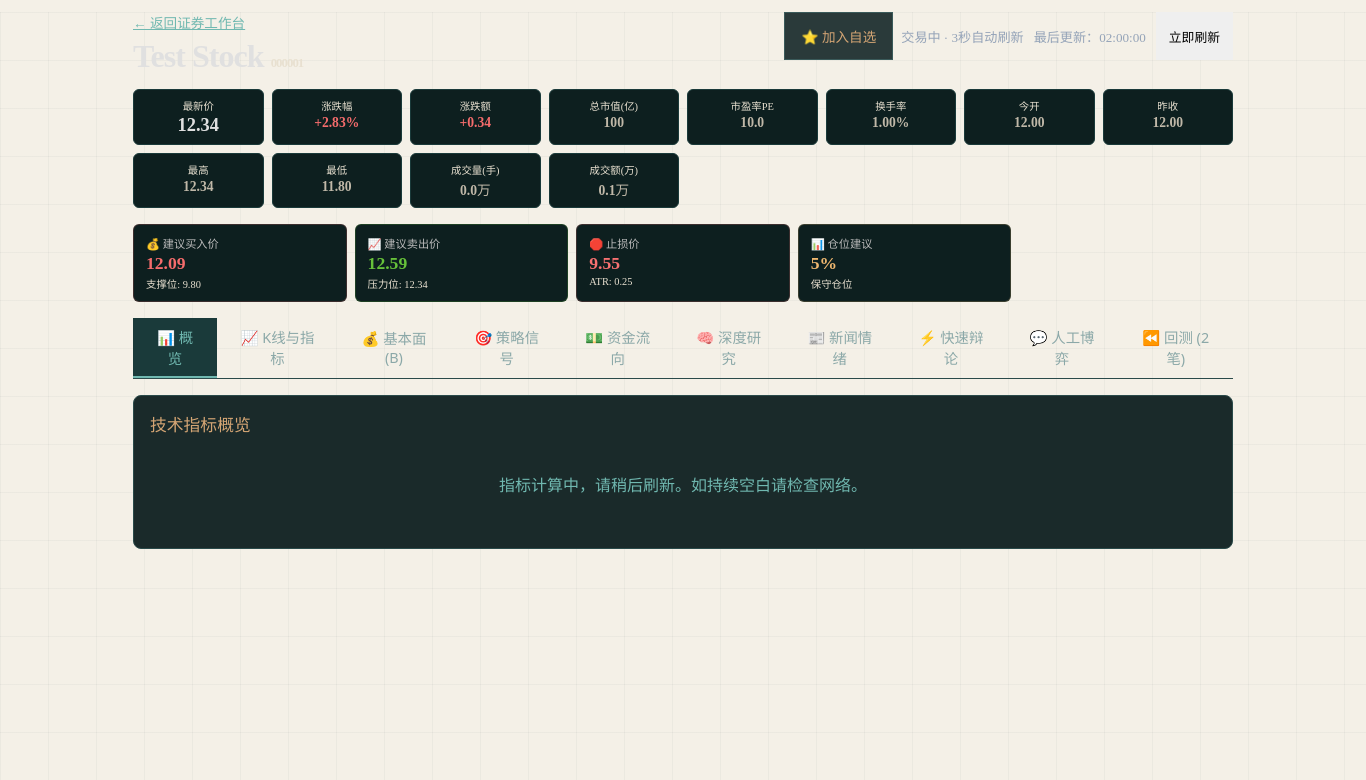
Scenario: StockAnalysisPage realtime quotes › adds the analyzed stock to the authenticated cloud watchlist
Click the button "⭐ 加入自选": (839, 36) [784,12,893,60]
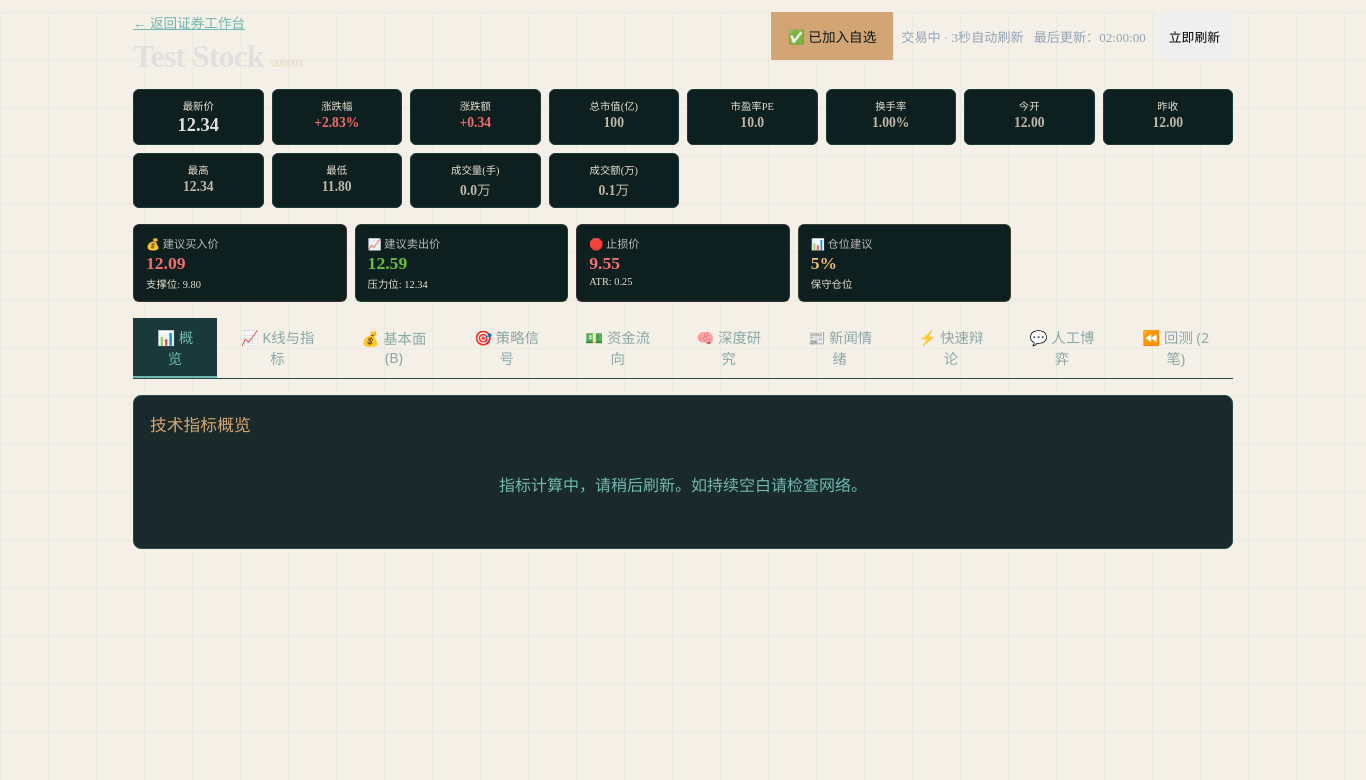
Result: the button "✅ 已加入自选" is shown at [771,12,893,60]
